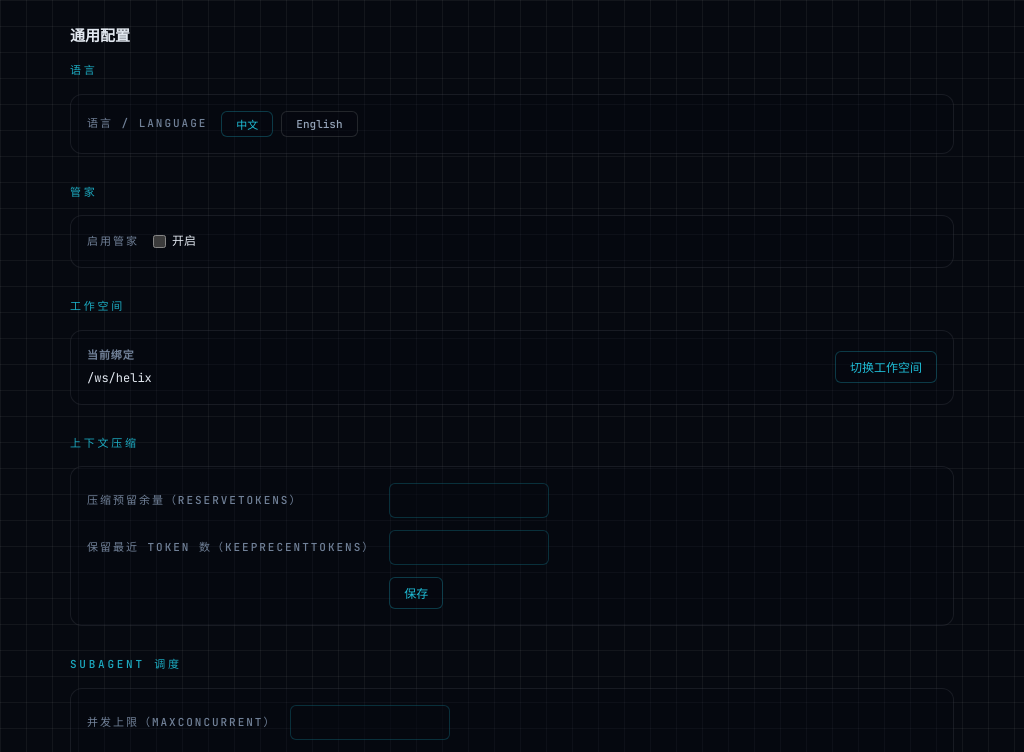
通用配置分区：语言切换 › 点击 English → localStorage 持久化 en-US + 词条即时切换（标题 General）
The width and height of the screenshot is (1024, 752).
Expected: the heading "通用配置" is shown, [70, 26, 130, 46]
Click the button "English" at (319, 124), box [281, 111, 358, 137]
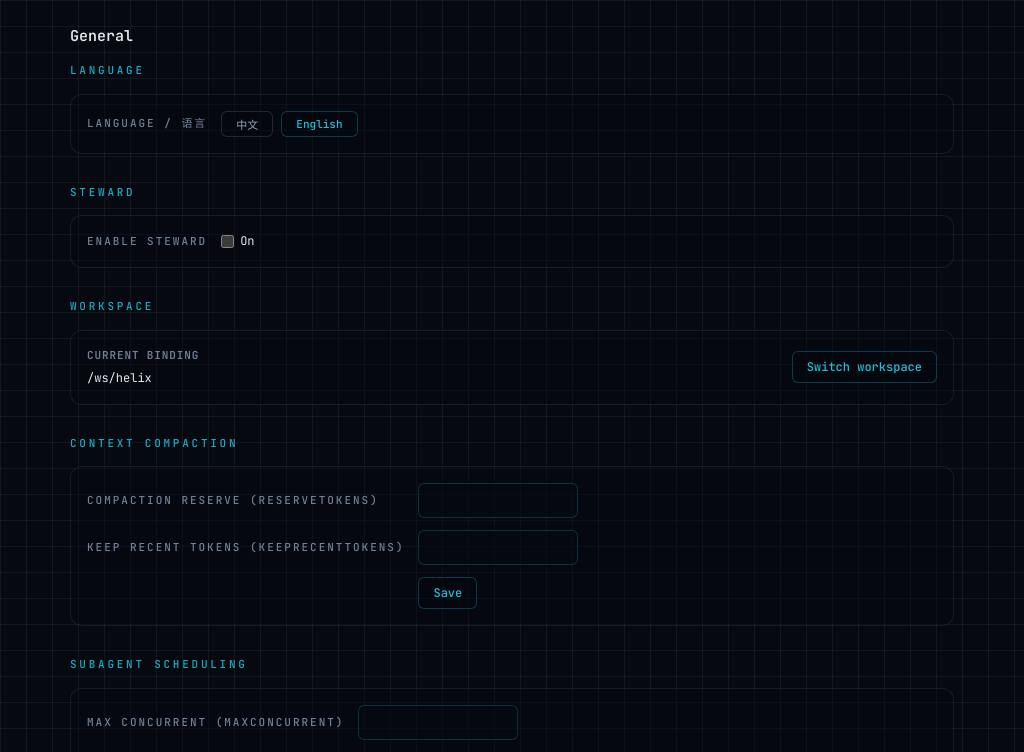
Expected: the heading "General" is shown, [70, 26, 133, 46]
